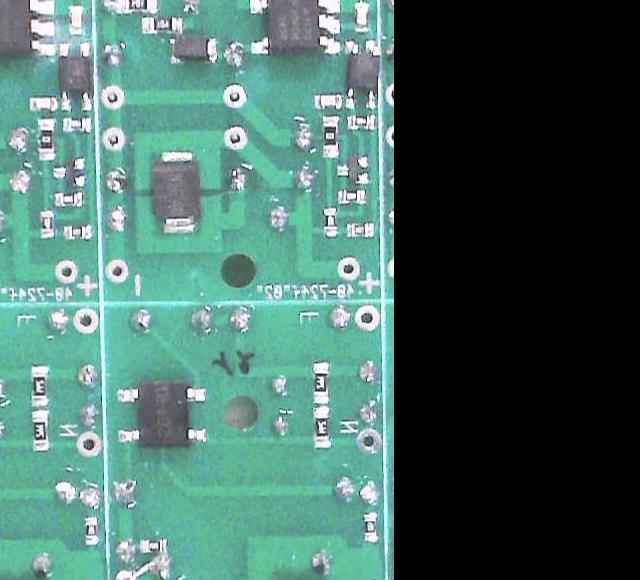chip-capacitor: (69, 4, 83, 33), (28, 96, 56, 109), (315, 94, 341, 107), (355, 2, 367, 29)
chip-resistor: (313, 406, 331, 447), (313, 362, 330, 403), (38, 118, 54, 159), (143, 15, 181, 32), (31, 365, 47, 404), (32, 411, 48, 449), (323, 118, 338, 154), (117, 0, 156, 12), (54, 191, 82, 205), (63, 117, 89, 132), (323, 207, 337, 234), (64, 225, 91, 239), (40, 210, 54, 237), (364, 513, 377, 541), (140, 538, 166, 551), (347, 224, 373, 237), (339, 189, 365, 202), (85, 516, 97, 544), (348, 115, 373, 128)
diode: (151, 149, 201, 232), (169, 36, 217, 61)
ic: (116, 381, 207, 446), (249, 0, 340, 54), (0, 0, 56, 58), (344, 37, 379, 109), (59, 43, 92, 110)
transistor: (54, 158, 85, 186), (337, 155, 367, 182)
